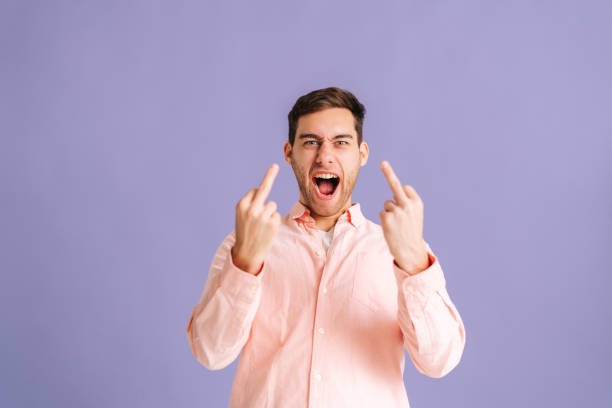insulting_gesture: (236, 159, 283, 263), (379, 161, 426, 254)
